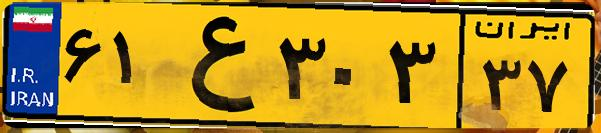0: (330, 28, 385, 110)
1: (110, 28, 158, 98)
3: (270, 28, 330, 110), (385, 28, 445, 110), (475, 38, 525, 113)
6: (57, 26, 110, 100)
7: (525, 38, 570, 115)
ع: (158, 12, 270, 120)
